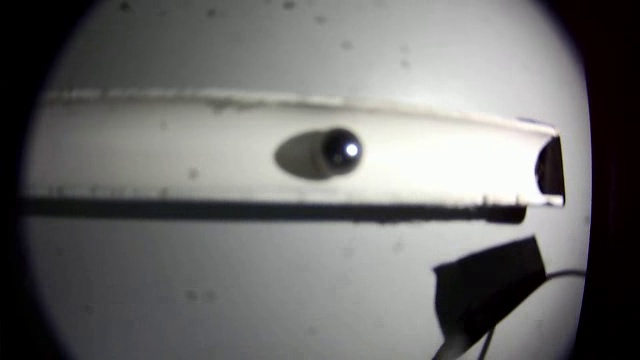gangzhu: (326, 130, 366, 175)
